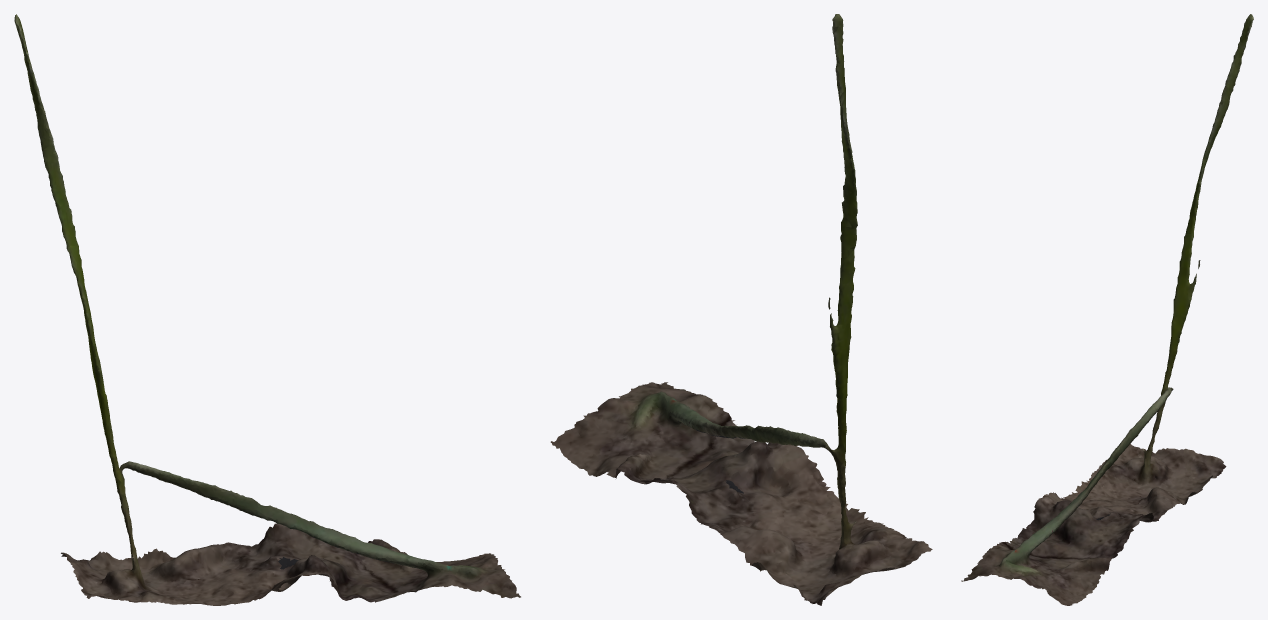
The model's file is Day8.glb.
3 renders of one model, left to right at view 1: azimuth 30°, elevation 25°; view 2: azimuth 150°, elevation 25°; view 3: azimuth 270°, elevation 25°, orthographic. The views are drawn at different scales.
Parts seen in each view (by area): view 1: Day8; view 2: Day8; view 3: Day8.
Part boxes in pixels (x1,y1,x2,y2): Day8: (14, 14, 520, 605); Day8: (550, 14, 932, 605); Day8: (961, 14, 1253, 605).
Size of the model in its own units: 0.5402 by 0.7741 by 0.4537.
43 materials, 43 textured.
